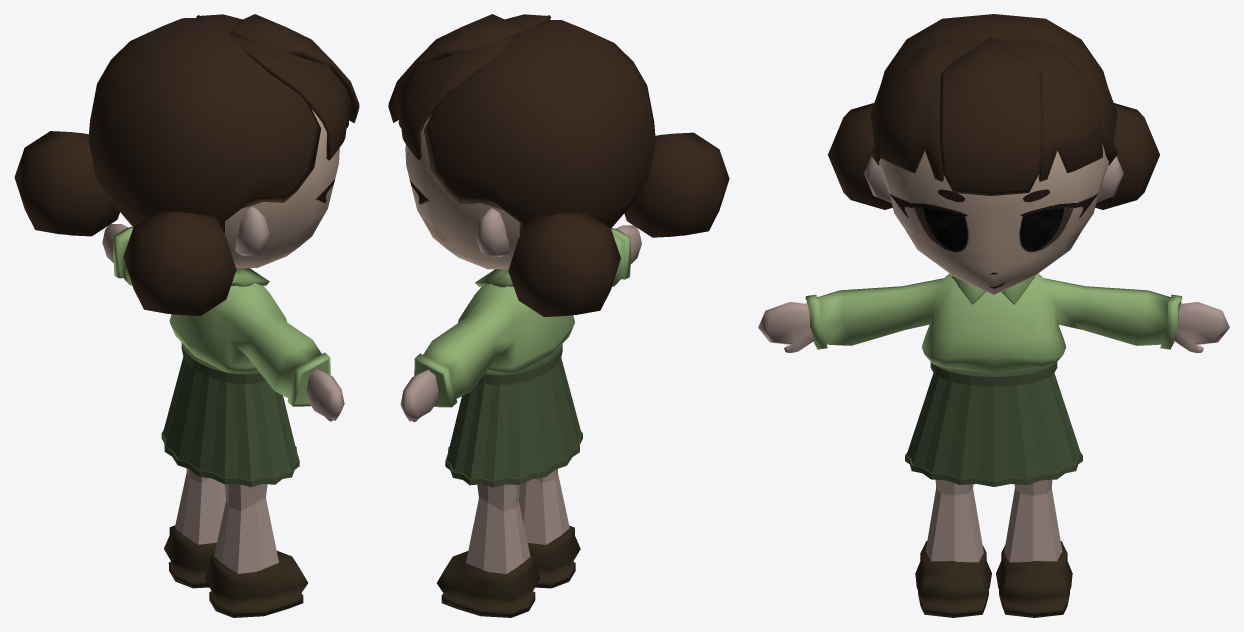
File: player.fbx
3 views of the same model, side by side, from view 1: azimuth 30°, elevation 25°; view 2: azimuth 150°, elevation 25°; view 3: azimuth 270°, elevation 25° (orthographic).
Parts seen in each view (by area): view 1: hair, SKIRT, top, legs, Cube, head, hands, ears, top extr; view 2: hair, SKIRT, top, legs, Cube, head, hands, ears, top extr; view 3: hair, top, head, SKIRT, Cube, legs, hands, ears, top extr.
Boxes of the visible parts, bbox=[...] form: hair: bbox=[14, 14, 359, 315]; SKIRT: bbox=[161, 343, 299, 487]; top: bbox=[113, 226, 330, 406]; legs: bbox=[175, 468, 278, 573]; Cube: bbox=[164, 525, 307, 617]; head: bbox=[224, 109, 339, 268]; hands: bbox=[102, 224, 344, 421]; ears: bbox=[235, 207, 269, 255]; top extr: bbox=[231, 268, 269, 286]; hair: bbox=[388, 14, 729, 316]; SKIRT: bbox=[445, 344, 582, 487]; top: bbox=[414, 228, 630, 407]; legs: bbox=[466, 469, 569, 573]; Cube: bbox=[437, 525, 580, 617]; head: bbox=[405, 115, 520, 269]; hands: bbox=[400, 225, 641, 422]; ears: bbox=[475, 208, 509, 256]; top extr: bbox=[475, 269, 513, 287]; hair: bbox=[828, 14, 1159, 209]; top: bbox=[805, 273, 1182, 374]; head: bbox=[879, 144, 1108, 294]; SKIRT: bbox=[905, 362, 1082, 486]; Cube: bbox=[915, 541, 1072, 617]; legs: bbox=[925, 479, 1062, 562]; hands: bbox=[758, 302, 1229, 353]; ears: bbox=[864, 156, 1123, 202]; top extr: bbox=[951, 275, 1034, 304].
Bounding box in the file's own units: 132 × 270 × 206.
